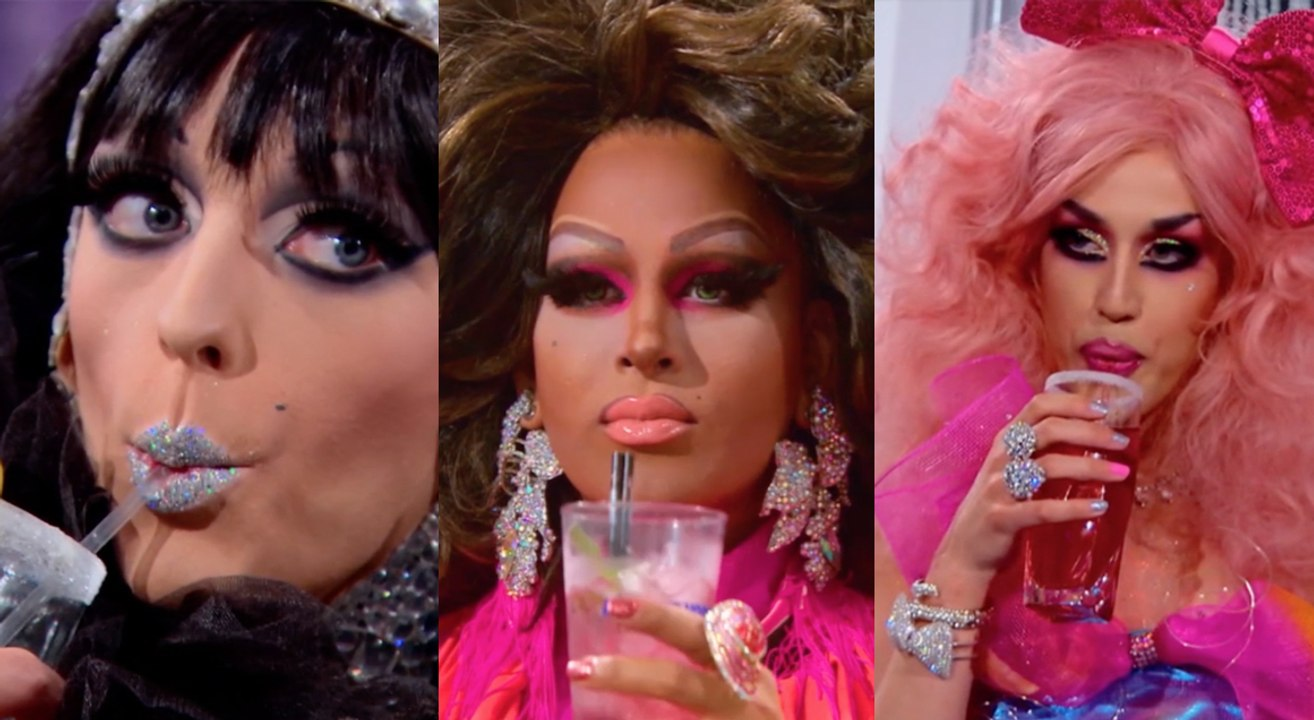drinking: (18, 16, 441, 612), (929, 22, 1268, 600)
